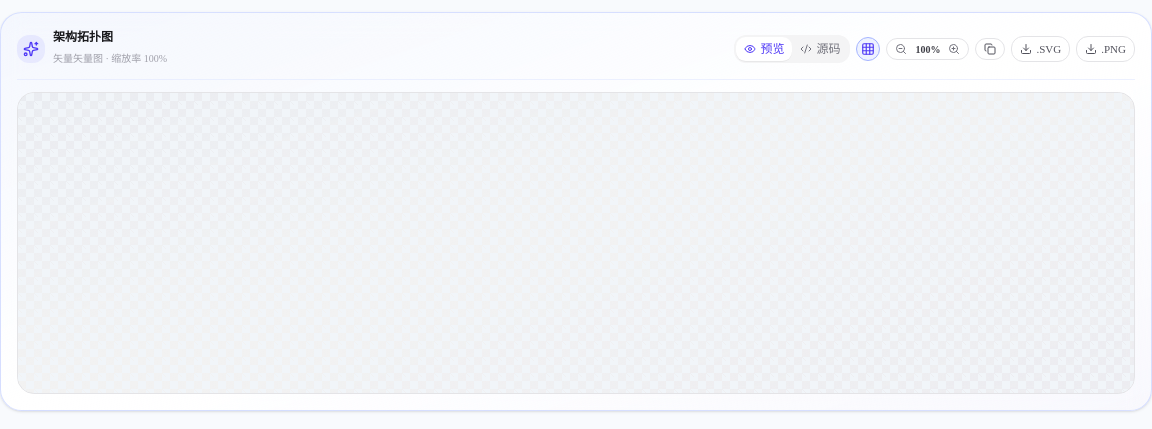
Artifact Components Suite › SvgArtifactViewer safely renders SVG and zoom controls
Check: the icon next to "架构拓扑图" is shown, box [23,41,39,57]
Click the button titled "放大". click: click(954, 49)
box: [944,39,964,59]
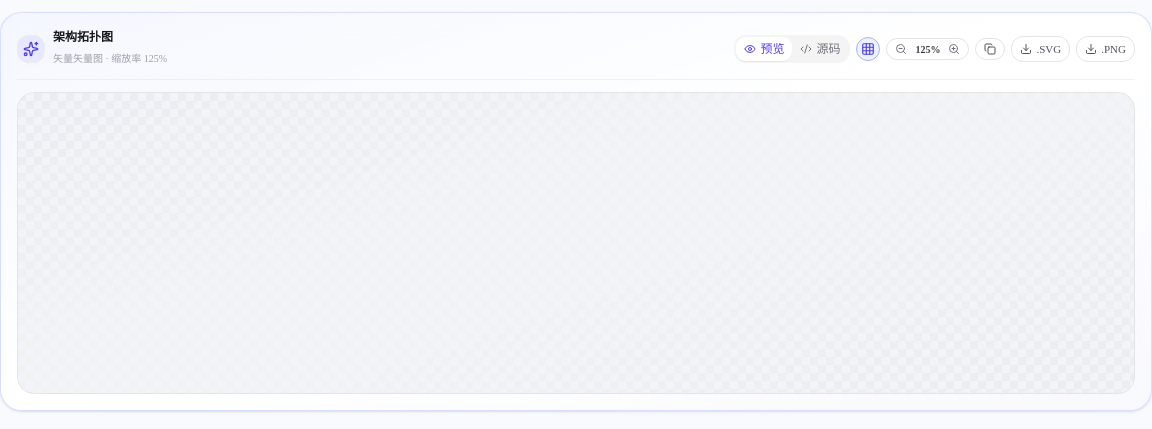
Check: the text "缩放率 125%" is shown, box [53,53,167,64]
